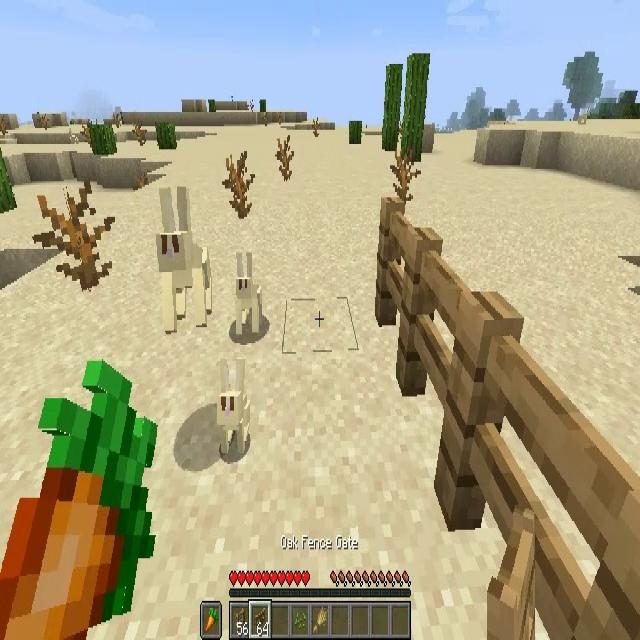rabbit: (155, 187, 209, 327), (216, 361, 251, 459), (235, 252, 261, 334)
